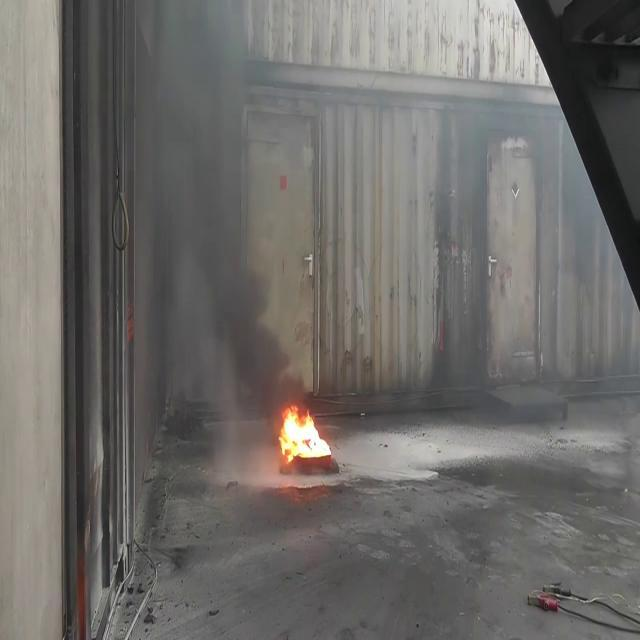Fire: (276, 398, 334, 466)
Smoke: (138, 1, 290, 453)
